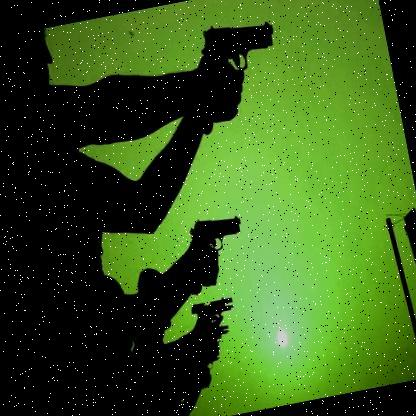rifle: (194, 4, 290, 92), (188, 206, 253, 268), (192, 294, 238, 337), (211, 326, 233, 347)
